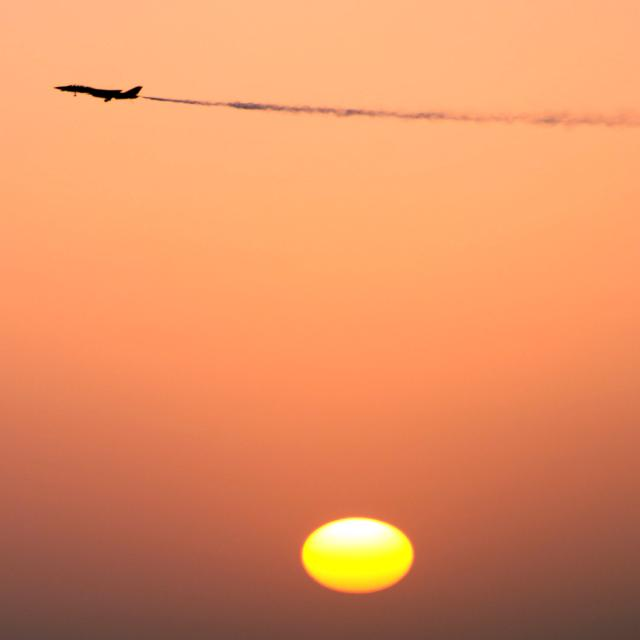MIL_Plane: (53, 84, 143, 105)
